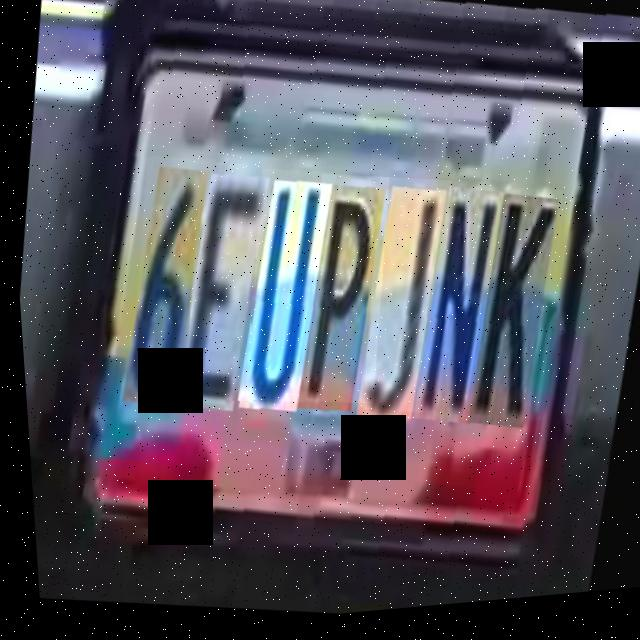6: (112, 154, 225, 405)
E: (166, 161, 283, 412)
J: (345, 179, 461, 425)
K: (456, 190, 572, 435)
N: (402, 182, 517, 430)
P: (288, 176, 399, 416)
U: (229, 169, 345, 414)
